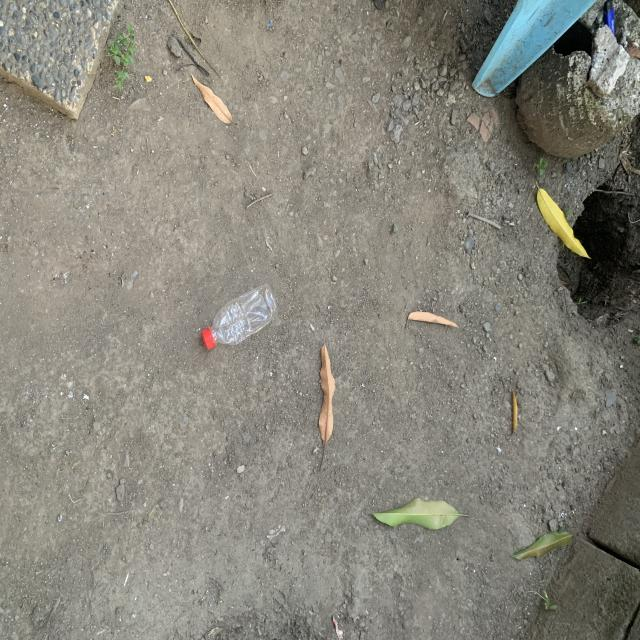Bottle: (202, 286, 277, 349)
